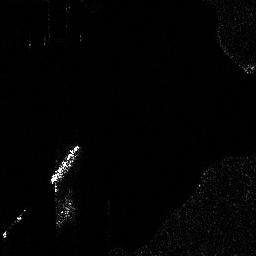ship: (51, 144, 81, 183)
